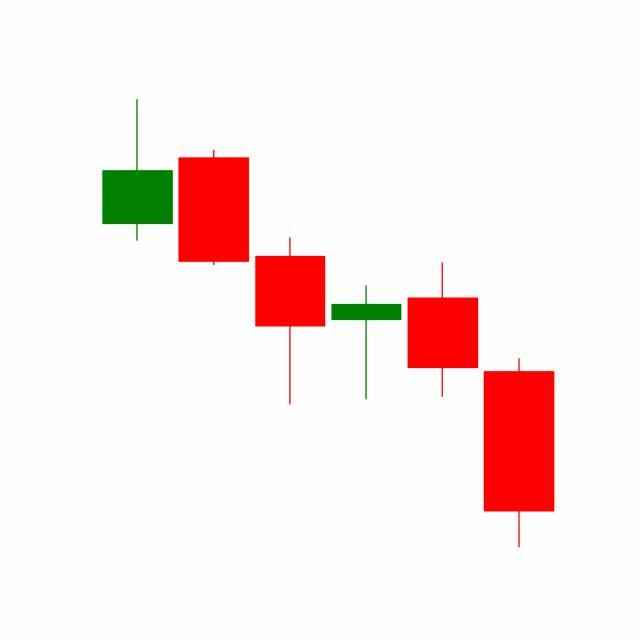Hikkake Pattern: (175, 146, 555, 549)
